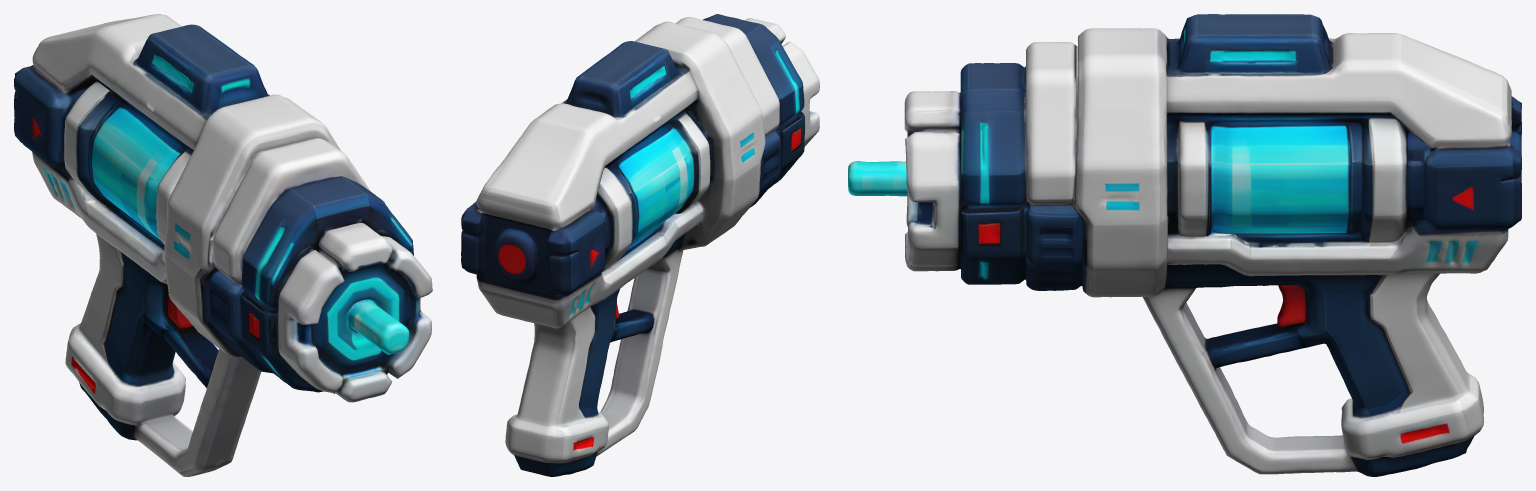
The model's file is debugBlaster.fbx.
3 renders of one model, left to right at view 1: azimuth 30°, elevation 25°; view 2: azimuth 150°, elevation 25°; view 3: azimuth 270°, elevation 25°, orthographic. The views are drawn at different scales.
Parts seen in each view (by area): view 1: model; view 2: model; view 3: model.
Boxes of the visible parts, x1,y1,x2,y2 form: model: (14, 14, 432, 476); model: (461, 14, 819, 476); model: (848, 14, 1521, 476).
Size of the model in its own units: 70.57 by 170 by 234.
Materials: 1 (1 with a texture image).
